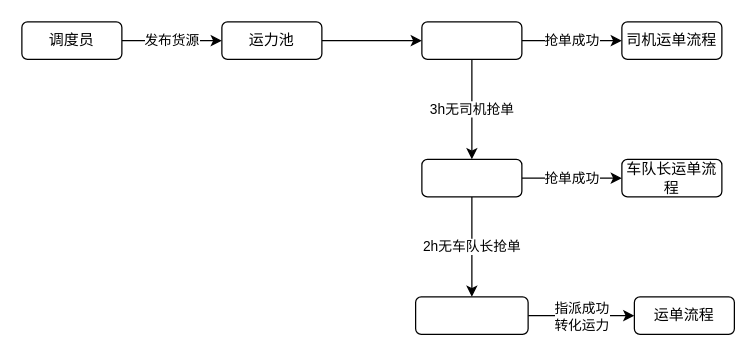
Some shapes in this 756 by 356 pixel diagram are drawn without their labels. Each missing label, with the centre of its shape:
"司机抢单" goes at [471,40].
"指派 车队长/司机" goes at [471,315].
"车队长" goes at [471,177].
